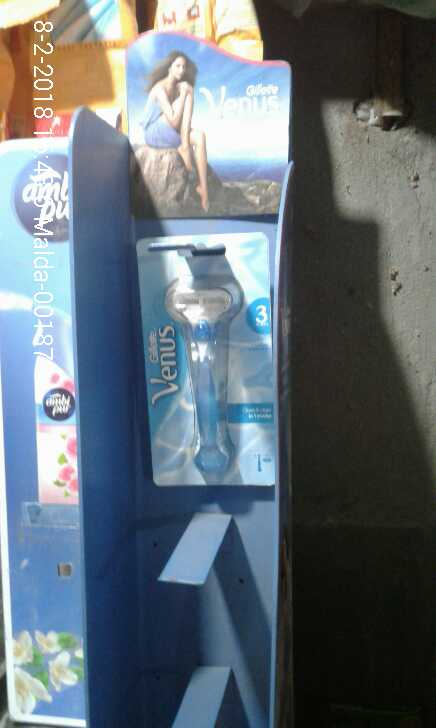venus: (138, 234, 276, 496)
